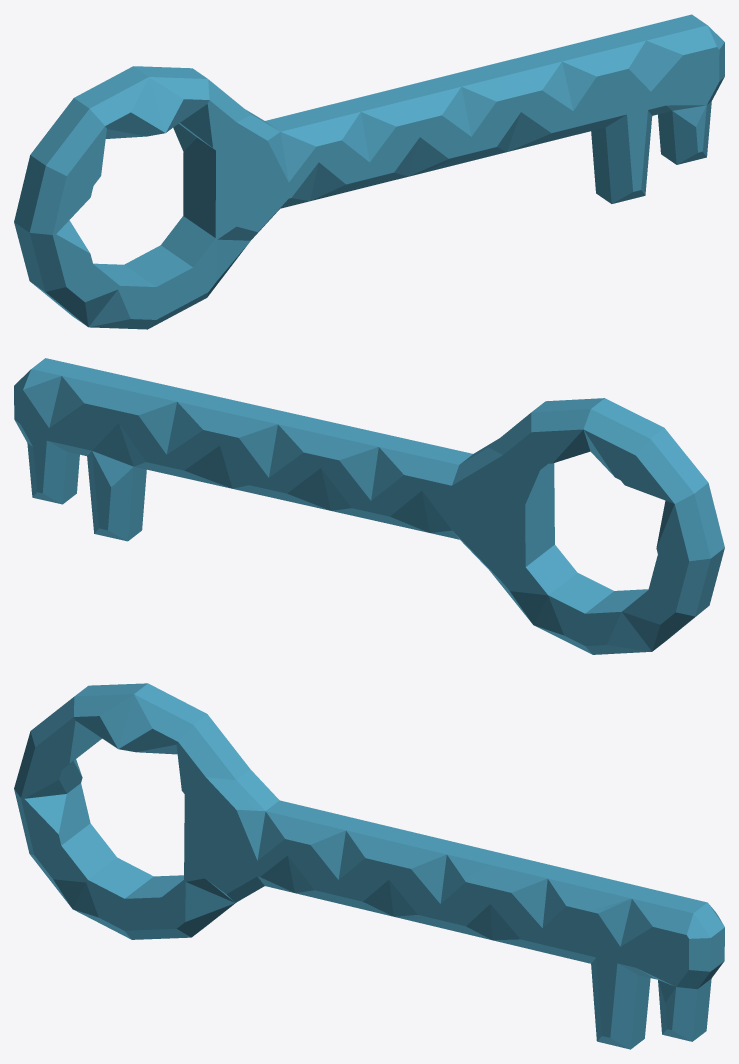
File: blue_key.glb
3 views of the same model, one above another, from view 1: azimuth 30°, elevation 25°; view 2: azimuth 150°, elevation 25°; view 3: azimuth 330°, elevation 25° (orthographic). The views are drawn at different scales.
Parts seen in each view (by area): view 1: Circle.025; view 2: Circle.025; view 3: Circle.025.
Boxes of the visible parts, left/top/right/bottom form: Circle.025: left=14, top=14, right=724, bottom=329; Circle.025: left=14, top=358, right=724, bottom=654; Circle.025: left=14, top=683, right=724, bottom=1049.
Size of the model in its own units: 1.89 by 0.6456 by 0.2172.
1 material, 1 textured.
